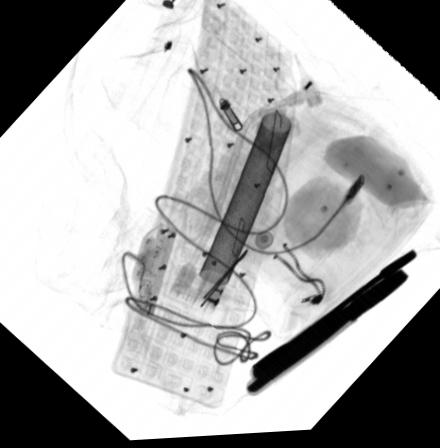Pliers: (242, 267, 410, 403)
Wrench: (248, 246, 417, 382)
